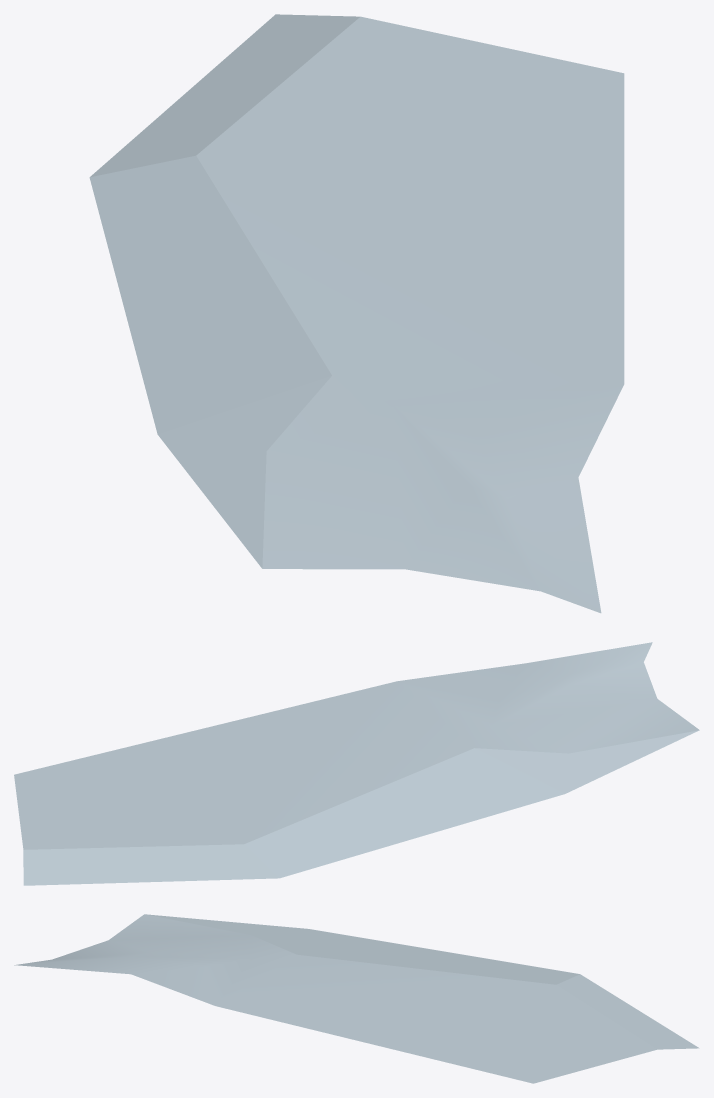
Rendered from nieve1.fbx.
The picture shows the model from 3 angles, top to bottom: view 1: azimuth 30°, elevation 25°; view 2: azimuth 150°, elevation 25°; view 3: azimuth 270°, elevation 25°; orthographic projection. The views are drawn at different scales.
Visible parts, largest first — view 1: Cylinder002; view 2: Cylinder002; view 3: Cylinder002.
Boxes of the visible parts, x1,y1,x2,y2 form: Cylinder002: (89, 14, 624, 613); Cylinder002: (14, 642, 699, 885); Cylinder002: (14, 914, 699, 1083).
Bounding box in the file's own units: 25.66 × 0.9103 × 40.59.
